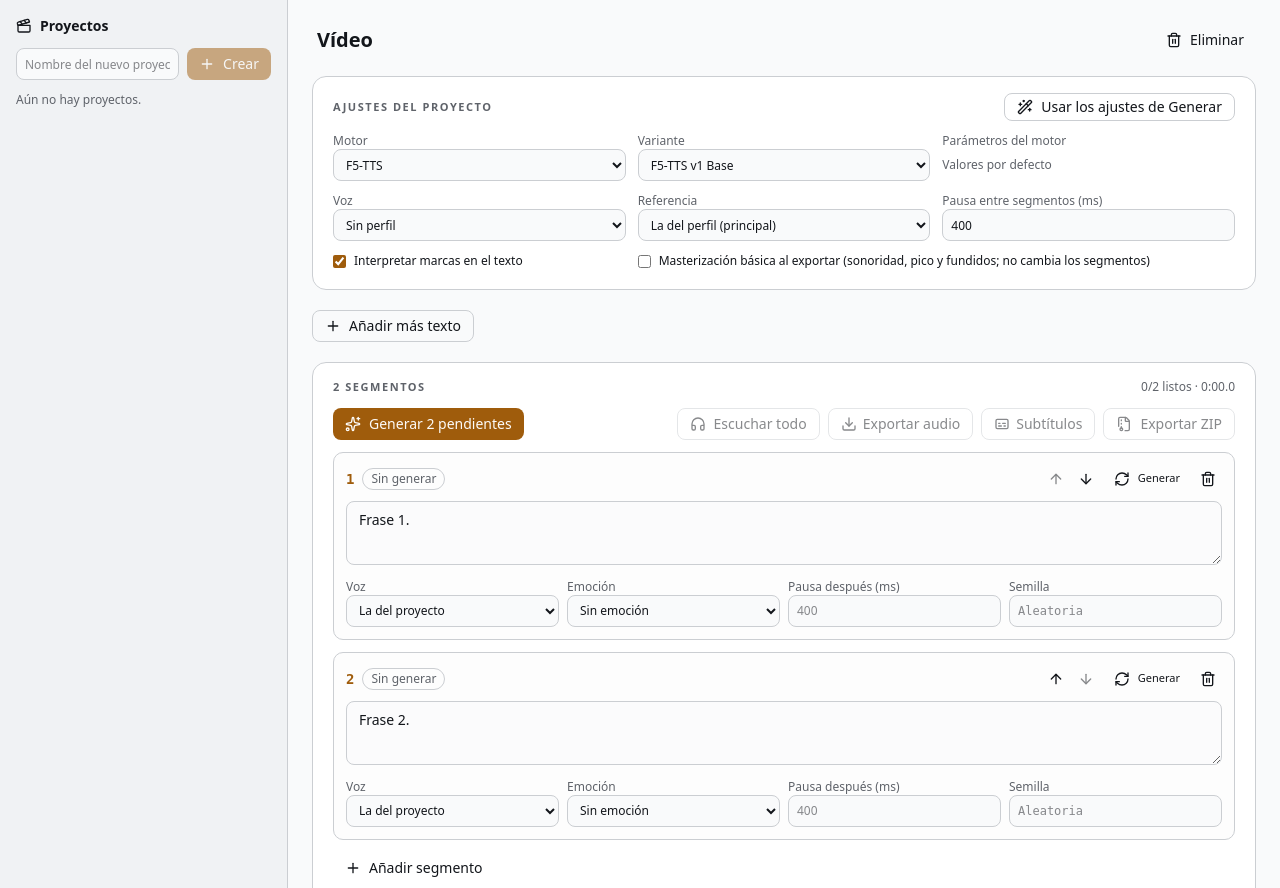
Test: ProjectsPage › shows which segment failed validation
Click the button "Generar 2 pendientes".
click(428, 424)  # box [333,408,524,440]
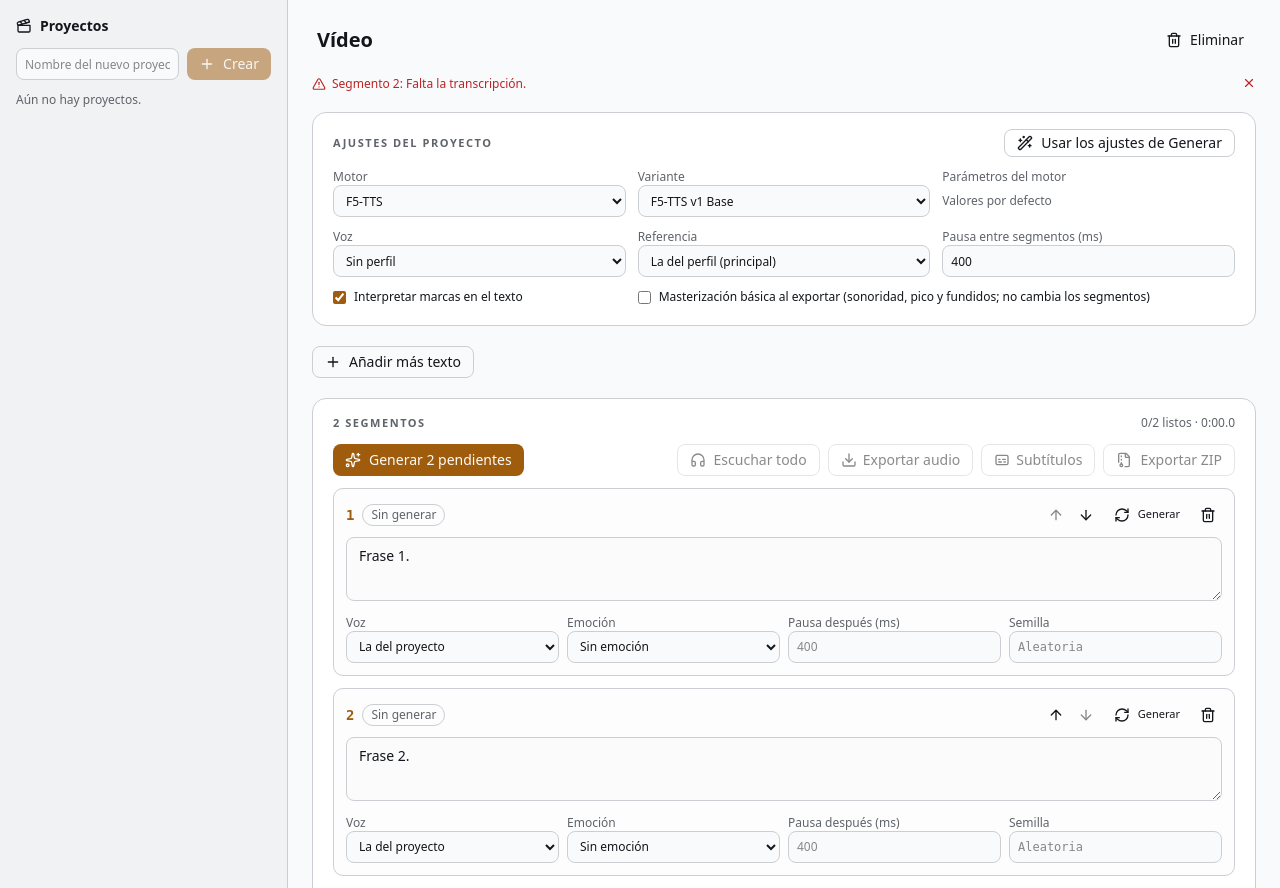
Expected: the message reads "Segmento 2: Falta la transcripción.", [332,75,526,92]
